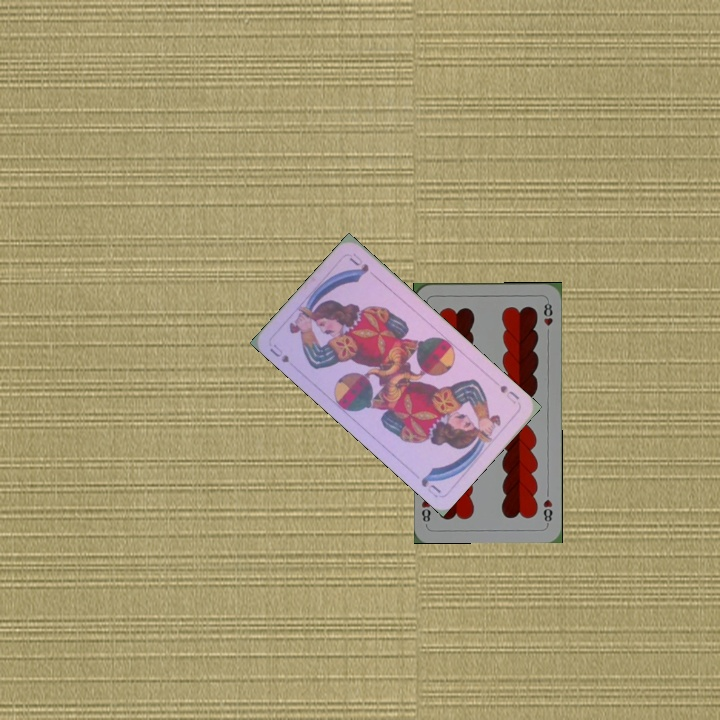H8: (539, 495, 555, 526)
SU: (496, 381, 522, 407), (265, 340, 292, 365)
